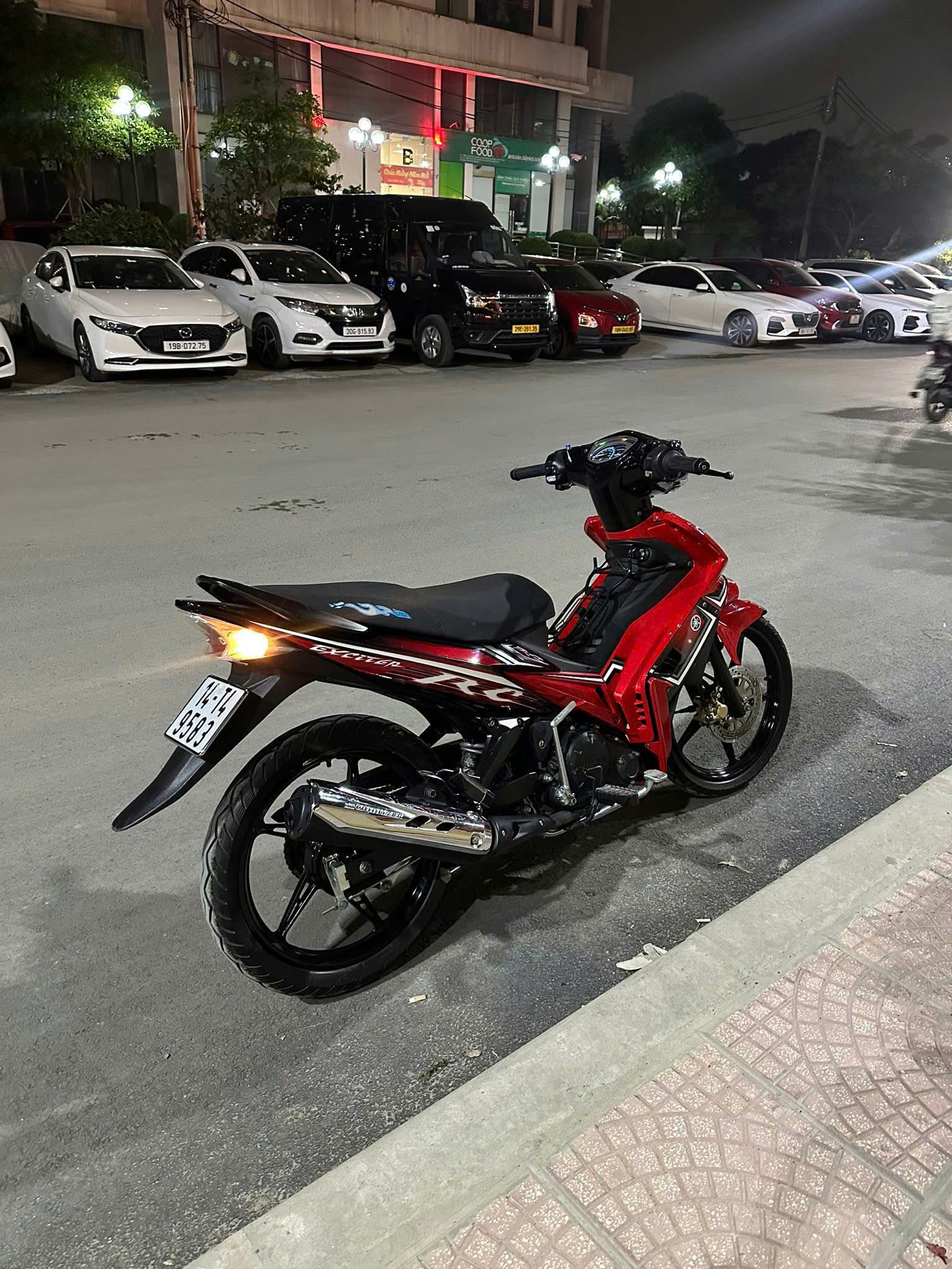Bien-so: (161, 680, 241, 753)
